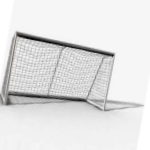goals: (1, 31, 116, 112)
